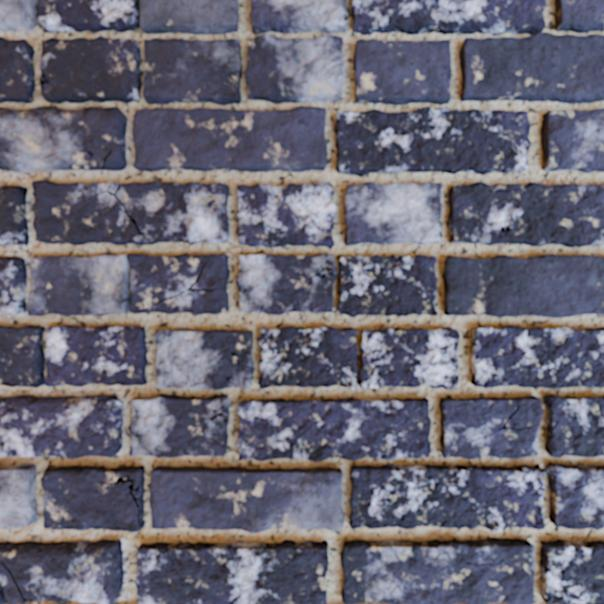brick: (351, 0, 603, 102), (350, 463, 603, 531), (335, 107, 529, 176), (150, 466, 343, 531), (32, 180, 228, 244), (341, 538, 533, 603), (133, 107, 326, 171), (27, 254, 228, 315), (135, 540, 327, 603), (238, 398, 430, 461), (447, 182, 603, 246), (443, 255, 603, 316), (0, 325, 146, 386), (0, 394, 124, 459), (471, 326, 603, 387), (245, 34, 344, 102), (41, 466, 143, 531), (37, 0, 237, 33), (40, 37, 141, 102), (143, 38, 240, 104), (440, 396, 542, 458), (354, 39, 450, 104), (237, 183, 334, 247), (338, 255, 437, 316), (129, 395, 228, 456), (154, 328, 253, 389), (359, 328, 459, 388), (237, 254, 336, 314), (259, 327, 356, 388), (345, 183, 441, 244), (540, 540, 603, 603), (541, 109, 603, 172), (545, 395, 603, 456), (251, 0, 346, 33), (0, 464, 37, 528), (0, 37, 34, 102), (555, 0, 603, 32), (110, 182, 117, 192)
broken_brick: (0, 105, 127, 173), (0, 538, 124, 603), (0, 185, 29, 246), (0, 256, 27, 314), (0, 0, 37, 32), (0, 565, 20, 603)
crack: (95, 181, 144, 236), (0, 561, 33, 603), (193, 408, 228, 440), (301, 264, 336, 292), (225, 347, 250, 382), (487, 182, 534, 192), (101, 149, 112, 170), (0, 582, 8, 603), (39, 73, 49, 88), (39, 599, 75, 603), (34, 0, 39, 18), (41, 38, 57, 43), (342, 13, 347, 26), (64, 109, 82, 111), (239, 426, 248, 430), (108, 600, 119, 603), (15, 109, 31, 111), (438, 231, 442, 238), (121, 143, 126, 147)
